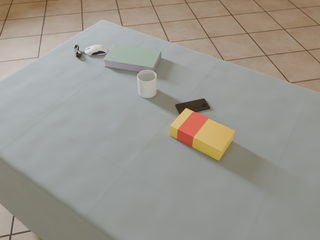book: (103, 44, 161, 72)
box: (170, 108, 235, 161)
cup: (137, 70, 157, 98)
mouse: (85, 45, 109, 55)
phone: (176, 99, 210, 114)
